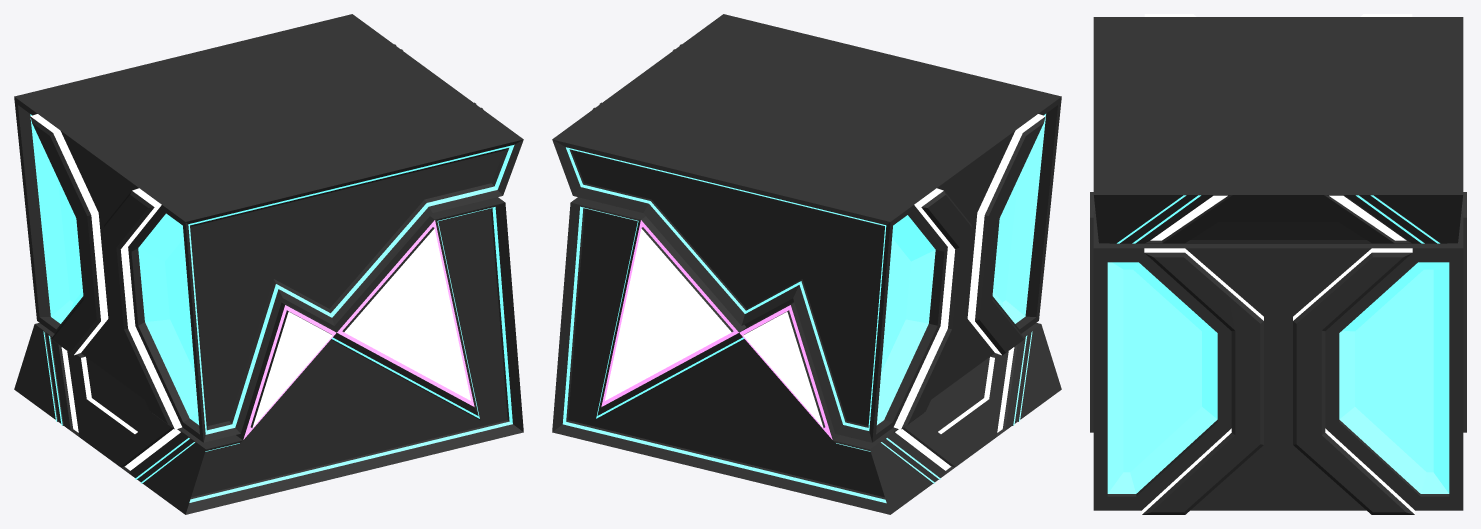
File: MysteryBox_22327.gltf
The picture shows the model from 3 angles, left to right: view 1: azimuth 30°, elevation 25°; view 2: azimuth 150°, elevation 25°; view 3: azimuth 270°, elevation 25°; orthographic projection. The views are drawn at different scales.
Visible parts, largest first — view 1: Cube.004, Cube002; view 2: Cube.004, Cube002; view 3: Cube002, Cube.004.
Boxes of the visible parts, x1,y1,x2,y2 form: Cube.004: [14, 14, 523, 442]; Cube002: [14, 197, 523, 514]; Cube.004: [552, 14, 1061, 442]; Cube002: [552, 197, 1061, 514]; Cube002: [1090, 192, 1466, 514]; Cube.004: [1093, 14, 1463, 243].
Size of the model in its own units: 1.93 by 1.51 by 1.63.
